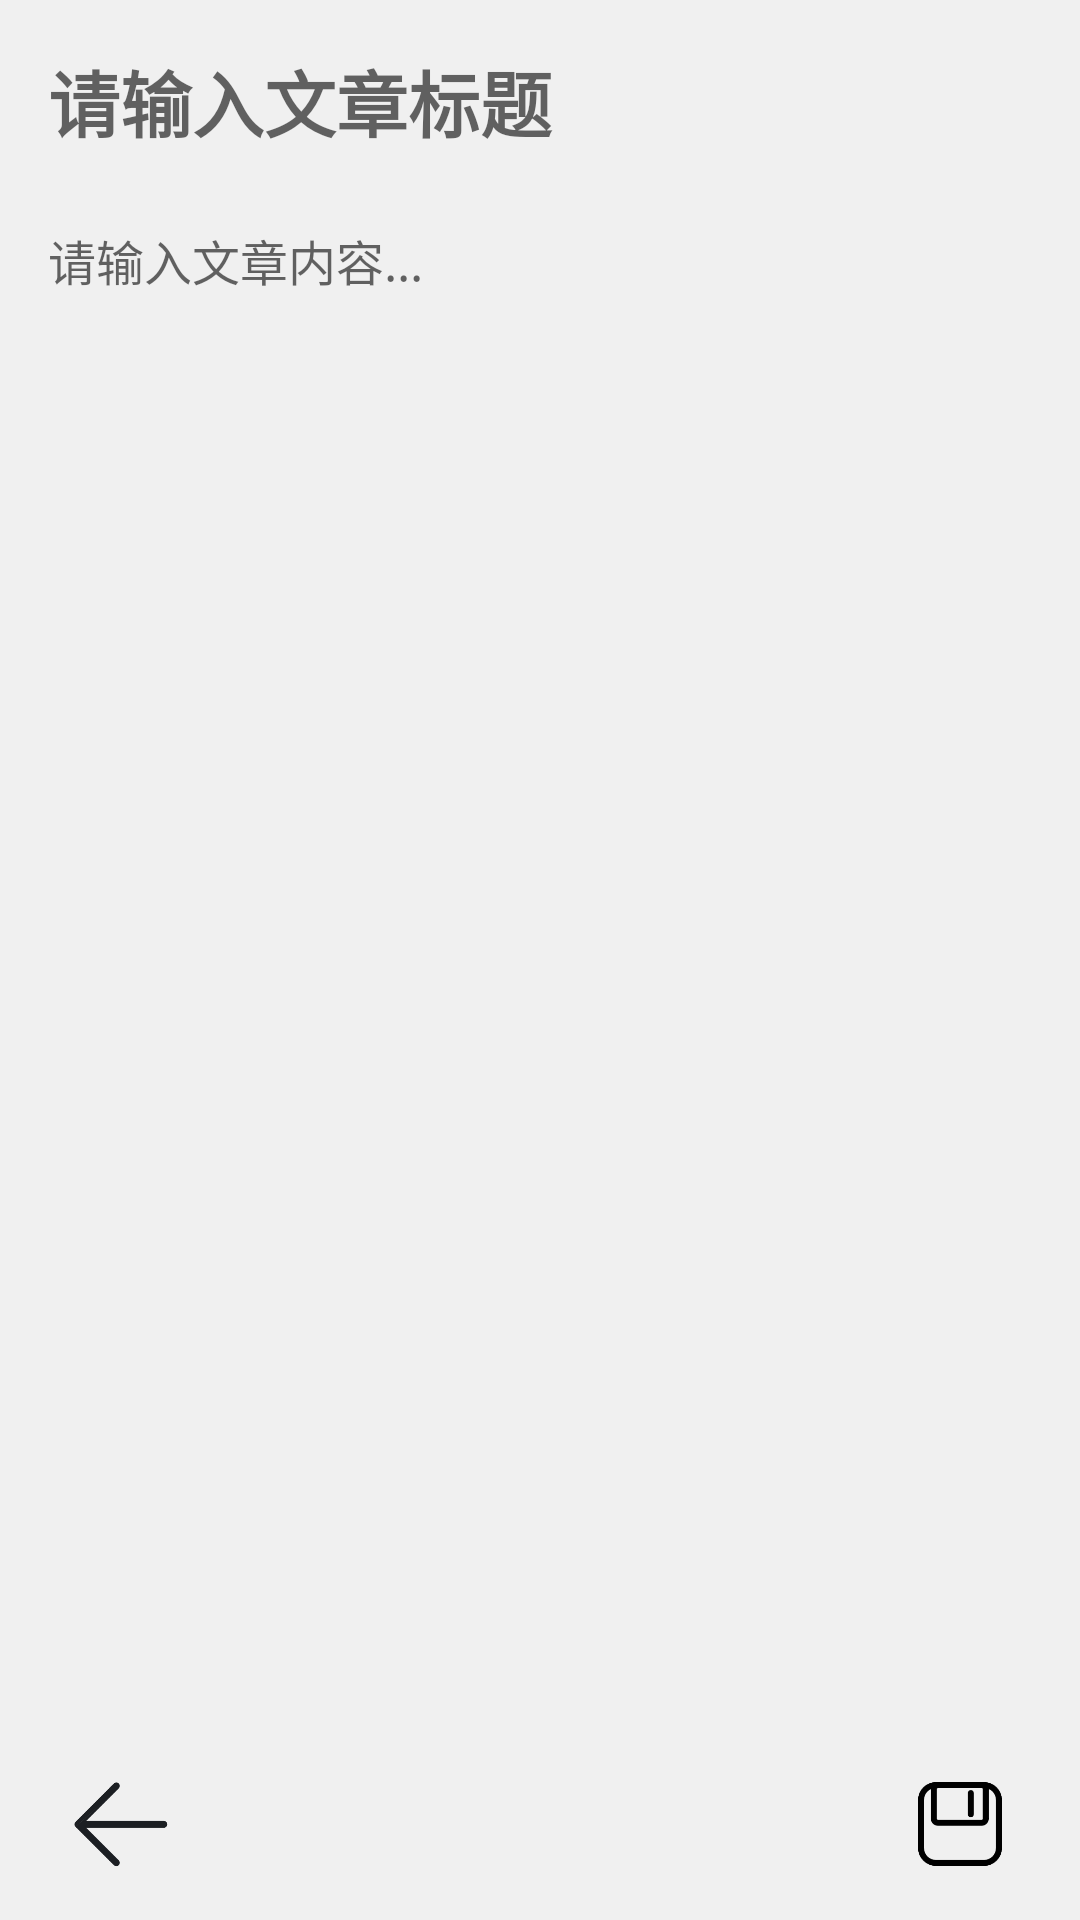

Icons on this 1080w x 1920h Android screen, each with its box as (x1, y1, x2, y2):
保存: (918, 1782, 1002, 1866)
返回: (74, 1782, 168, 1866)
